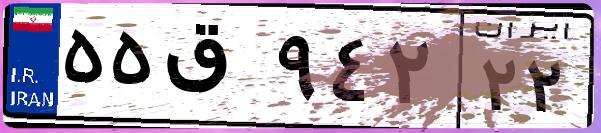2: (385, 28, 445, 110), (475, 38, 525, 113), (525, 38, 570, 115)
4: (330, 28, 385, 110)
5: (57, 26, 110, 100), (110, 28, 158, 98)
9: (270, 28, 330, 110)
ق: (158, 20, 270, 120)
